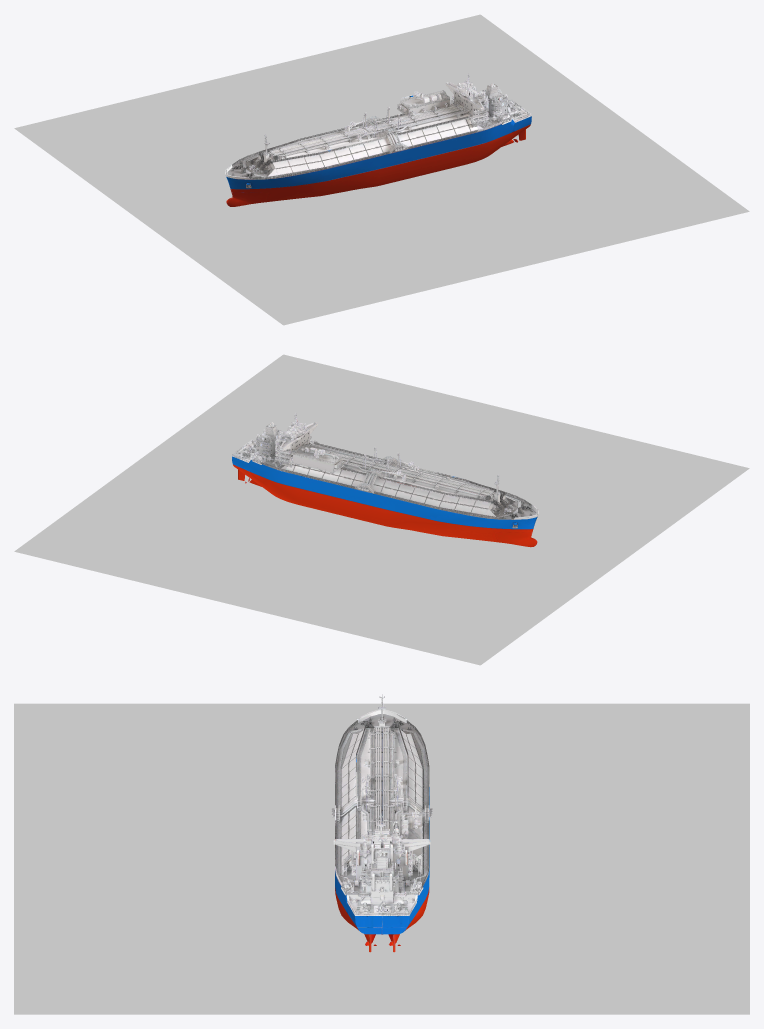
File: ship-ocean.glb
3 renders of one model, top to bottom at view 1: azimuth 30°, elevation 25°; view 2: azimuth 150°, elevation 25°; view 3: azimuth 270°, elevation 25°, orthographic. The views are drawn at different scales.
Visible parts, largest first — view 1: ocean, carrier; view 2: ocean, carrier; view 3: ocean, carrier.
Boxes of the visible parts, box(x1,y1,x2,y2) form: ocean: box(14, 14, 749, 325); carrier: box(225, 73, 531, 206); ocean: box(14, 354, 749, 665); carrier: box(232, 413, 538, 547); ocean: box(14, 703, 749, 1014); carrier: box(331, 694, 432, 952).
Size of the model in its own units: 43.72 by 7.59 by 43.72.
3 materials, 3 textured.
